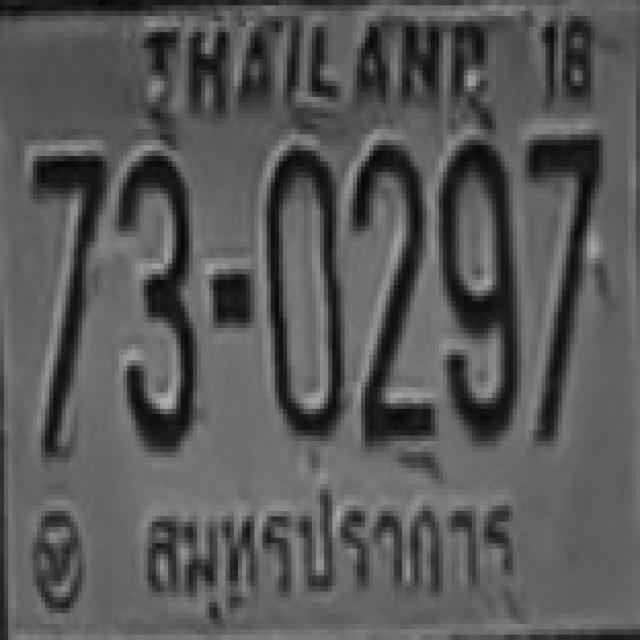0: (262, 142, 340, 433)
2: (350, 140, 424, 403)
3: (117, 150, 195, 447)
7: (30, 150, 104, 404), (525, 132, 599, 331), (525, 129, 599, 307), (30, 151, 104, 328)
9: (439, 137, 517, 438)
SamutPrakan: (132, 482, 524, 626)
